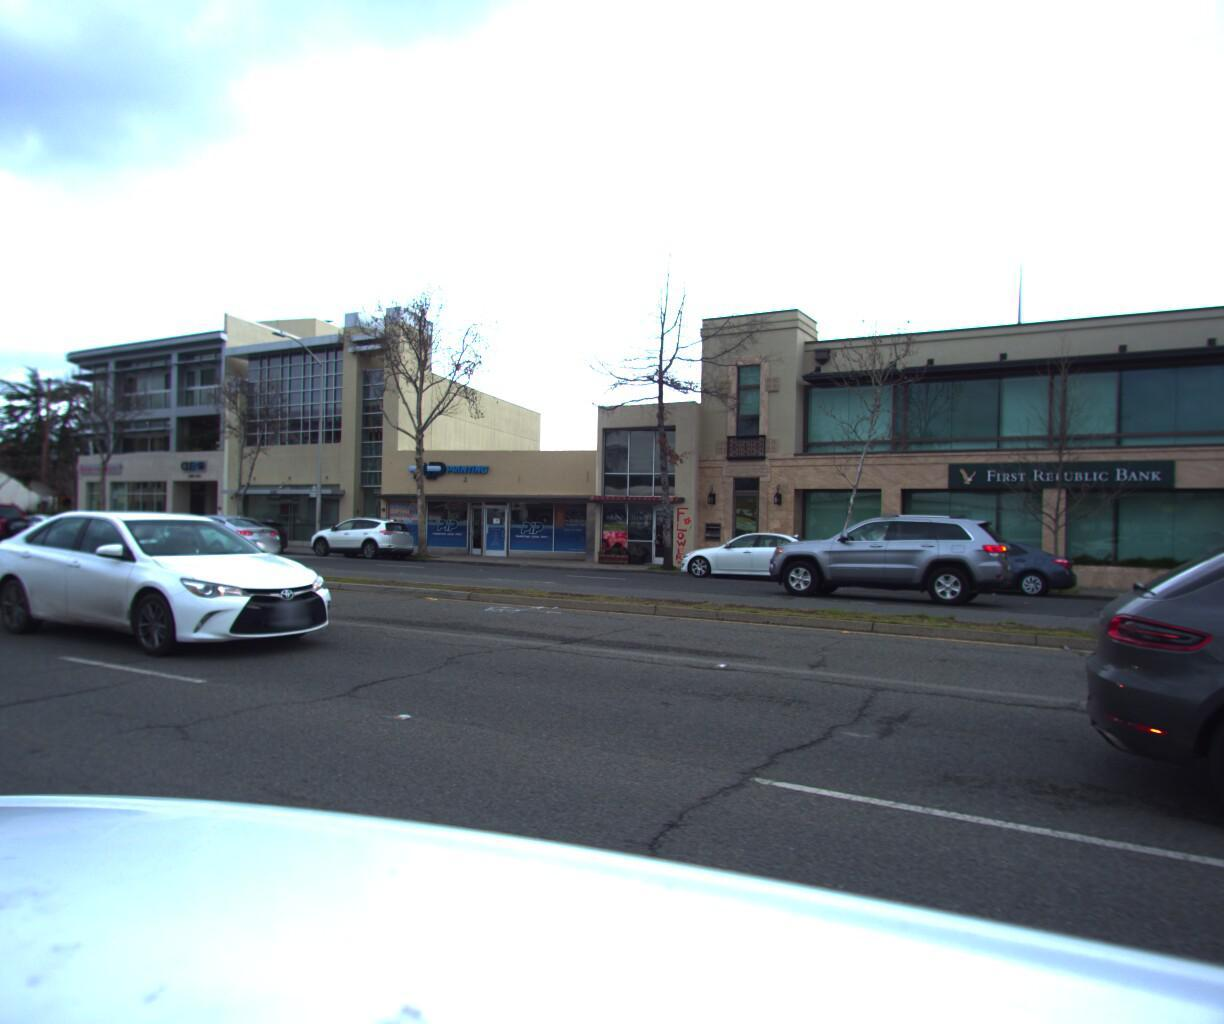car: (1106, 495, 1224, 1024), (0, 506, 361, 673), (762, 508, 1013, 607), (876, 531, 1080, 601), (663, 522, 852, 588), (150, 500, 296, 557), (296, 510, 421, 560), (185, 513, 292, 552), (0, 508, 83, 540), (0, 495, 34, 552)
